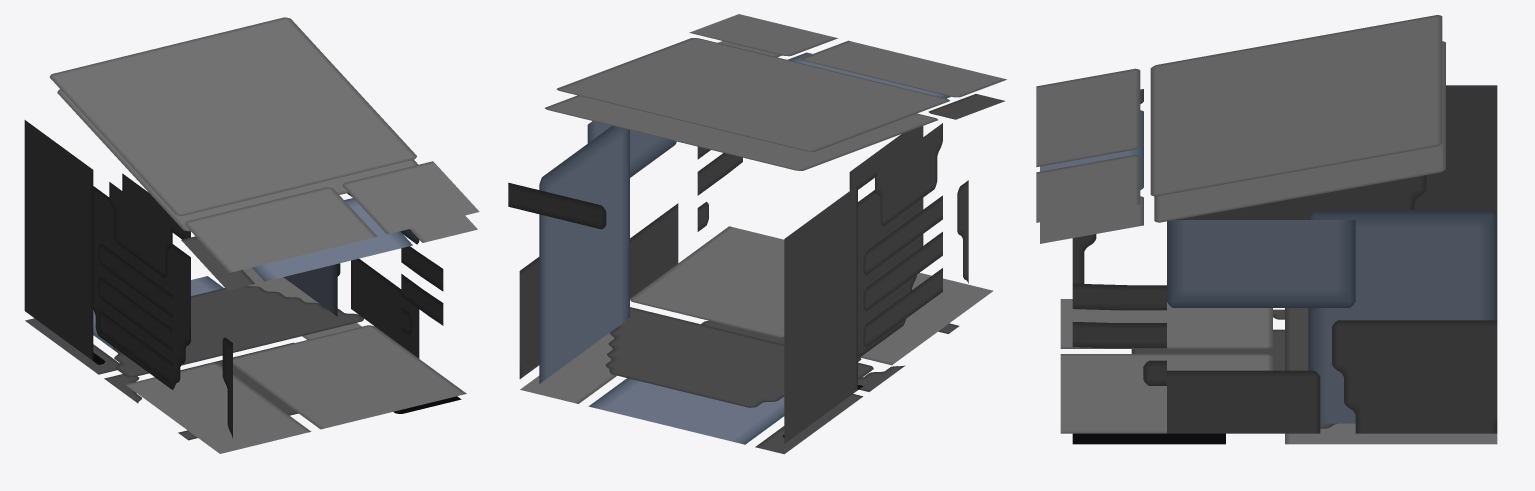
3 views of the same model, side by side, from view 1: azimuth 30°, elevation 25°; view 2: azimuth 150°, elevation 25°; view 3: azimuth 270°, elevation 25° (orthographic). The views are drawn at different scales.
Visible parts, largest first — view 1: cube; view 2: cube; view 3: cube.
Part boxes in pixels (x1,y1,x2,y2): cube: (24, 17, 479, 453); cube: (508, 14, 1006, 454); cube: (1036, 15, 1497, 444).
Size of the model in its own units: 1.71 by 1.91 by 2.57.
